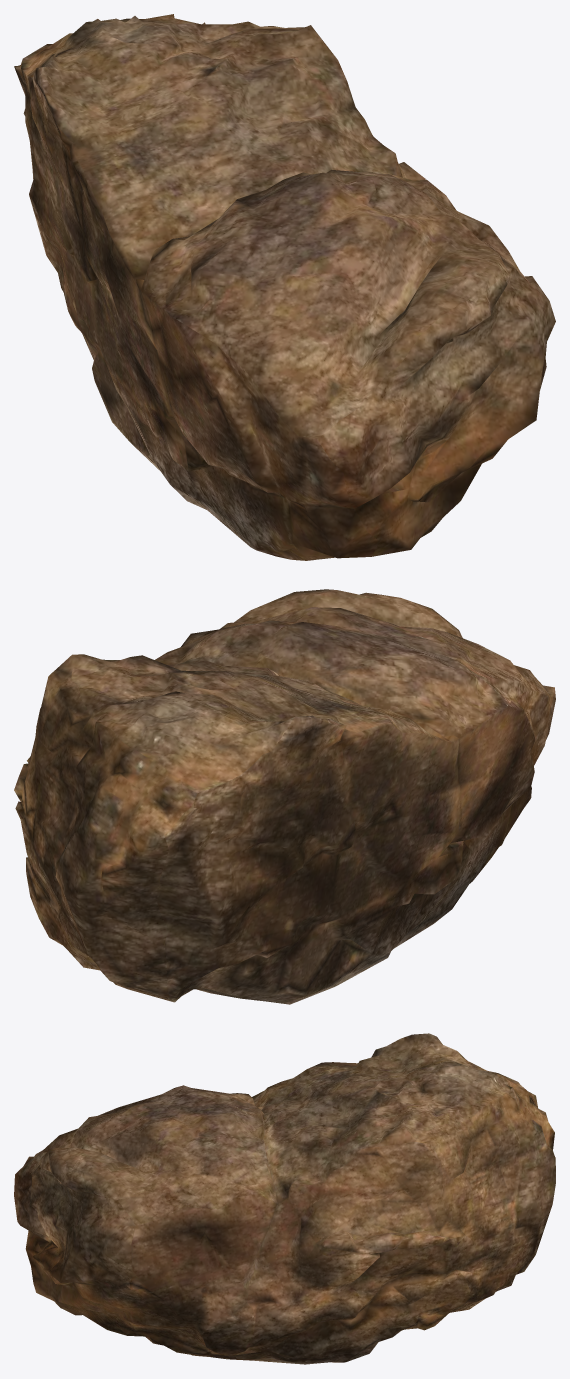
Rendered from namaqualand_boulder_06.glb.
The picture shows the model from 3 angles, top to bottom: view 1: azimuth 30°, elevation 25°; view 2: azimuth 150°, elevation 25°; view 3: azimuth 270°, elevation 25°; orthographic projection. The views are drawn at different scales.
Visible parts, largest first — view 1: namaqualand_boulder_06; view 2: namaqualand_boulder_06; view 3: namaqualand_boulder_06.
Part boxes in pixels (x1=…): namaqualand_boulder_06: x1=14, y1=14, x2=555, y2=560; namaqualand_boulder_06: x1=14, y1=589, x2=555, y2=1004; namaqualand_boulder_06: x1=14, y1=1033, x2=555, y2=1364.
Bounding box in the file's own units: 0.6724 × 0.6494 × 1.21.
Materials: 1 (1 with a texture image).
